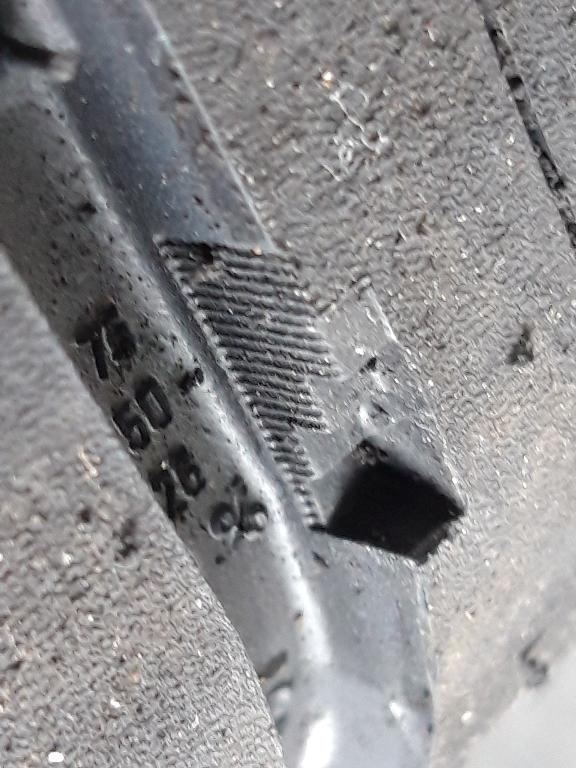temoin:75: (180, 259, 485, 577)
